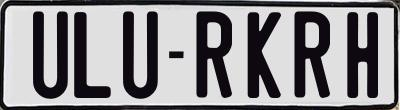H: (346, 12, 382, 98)
K: (248, 9, 287, 101)
L: (71, 9, 110, 98)
R: (195, 9, 237, 98), (294, 11, 335, 101)
U: (120, 9, 159, 102), (31, 9, 67, 98)
